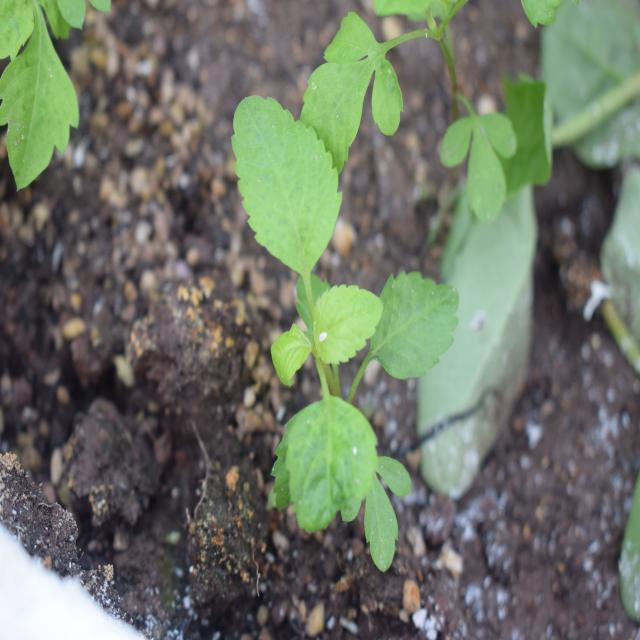Bidens pilosa: (173, 73, 452, 547)
